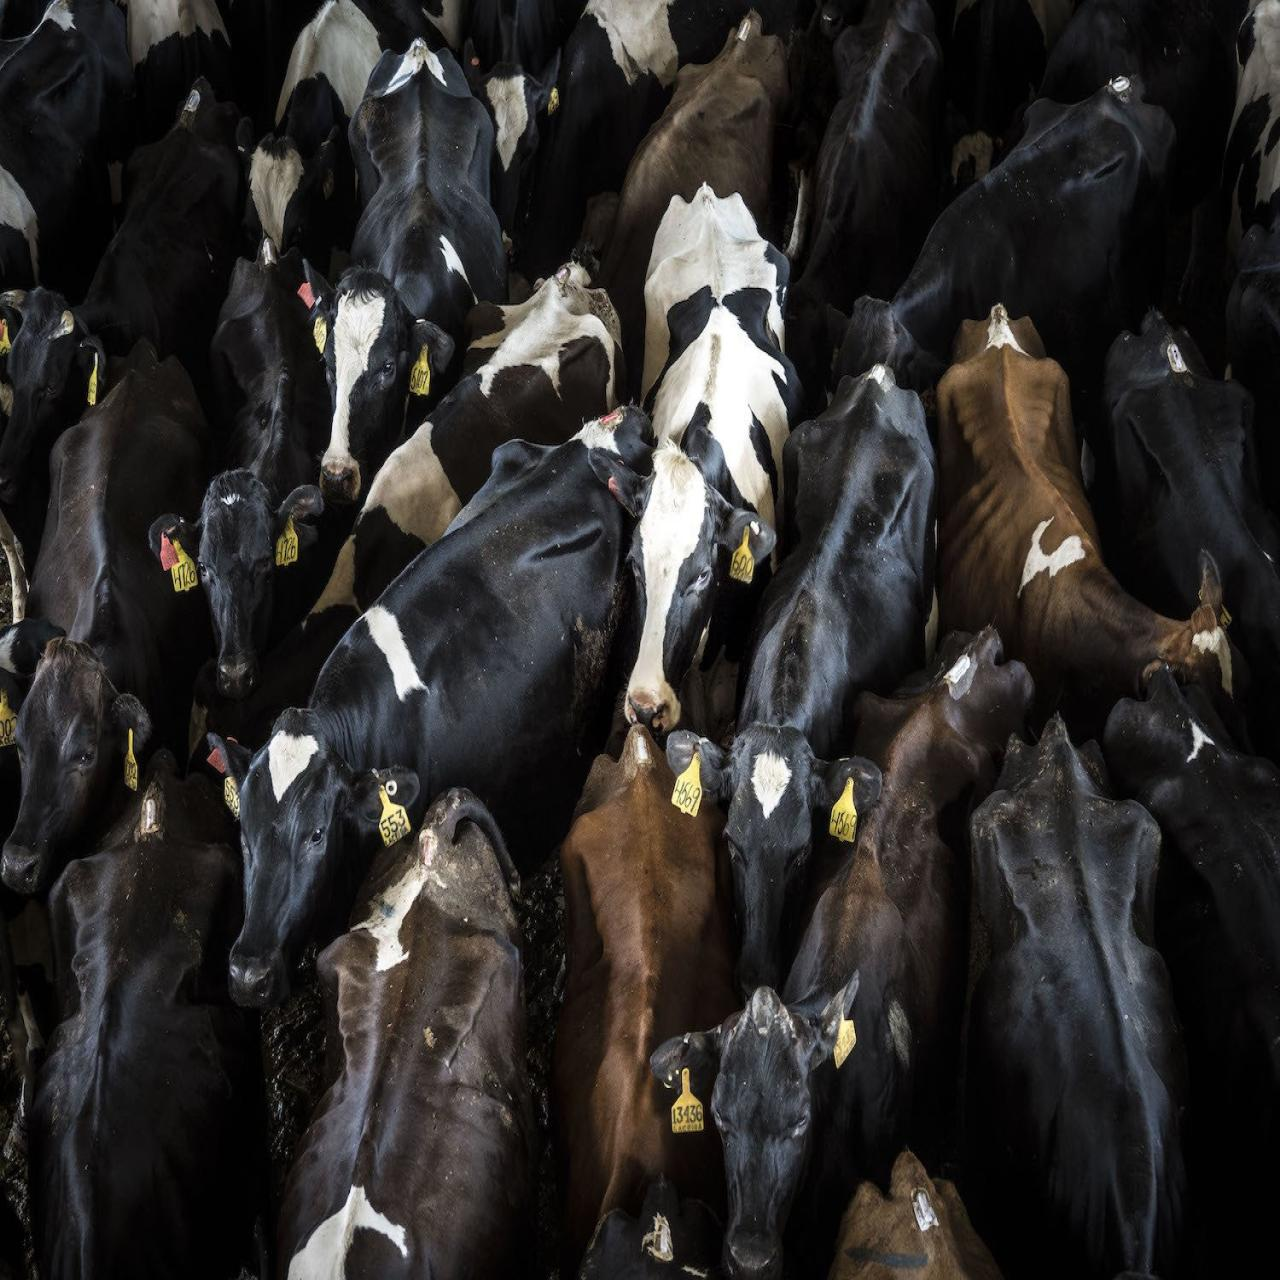cow: (200, 382, 714, 1010), (681, 656, 1033, 1280), (672, 360, 958, 955), (934, 275, 1244, 819), (830, 41, 1194, 467), (301, 215, 629, 666), (941, 727, 1197, 1280), (0, 301, 229, 901), (30, 753, 277, 1280), (300, 745, 533, 1280), (547, 693, 748, 1280), (613, 157, 803, 758), (127, 229, 353, 695), (301, 32, 518, 513), (1077, 682, 1280, 1182), (1081, 251, 1280, 654), (787, 0, 959, 327)
